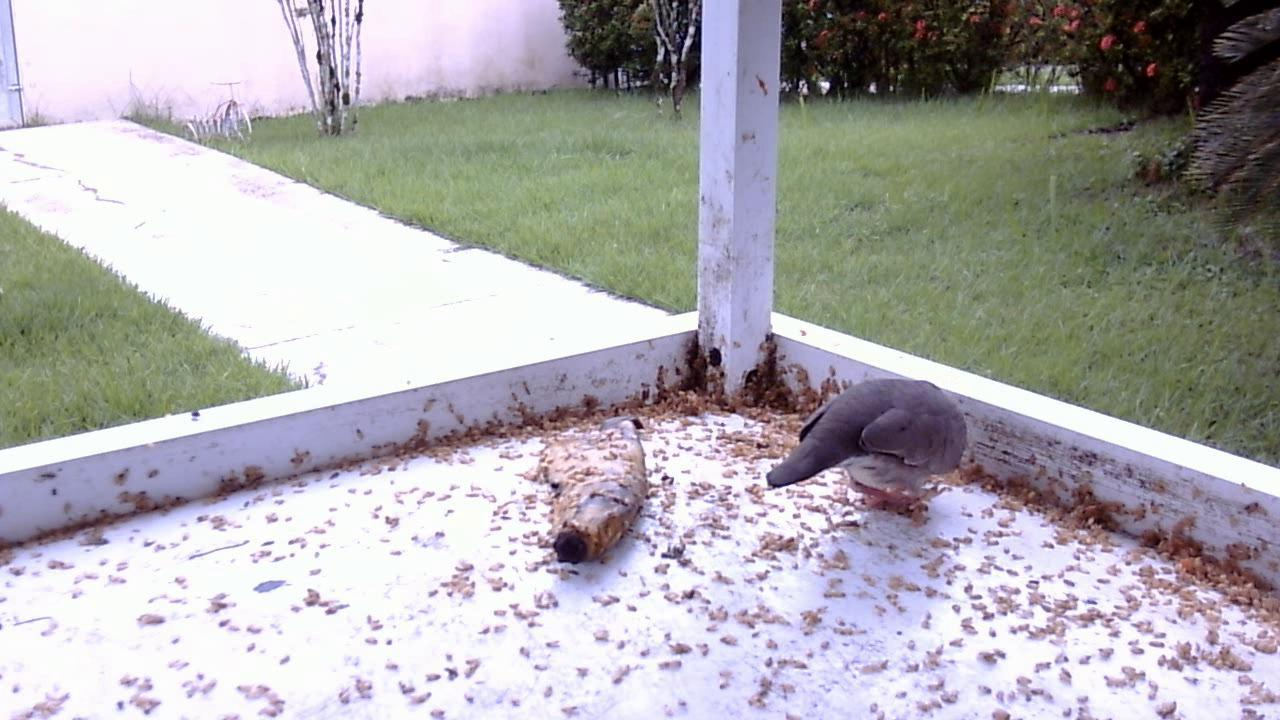rolinha: (764, 371, 974, 521)
